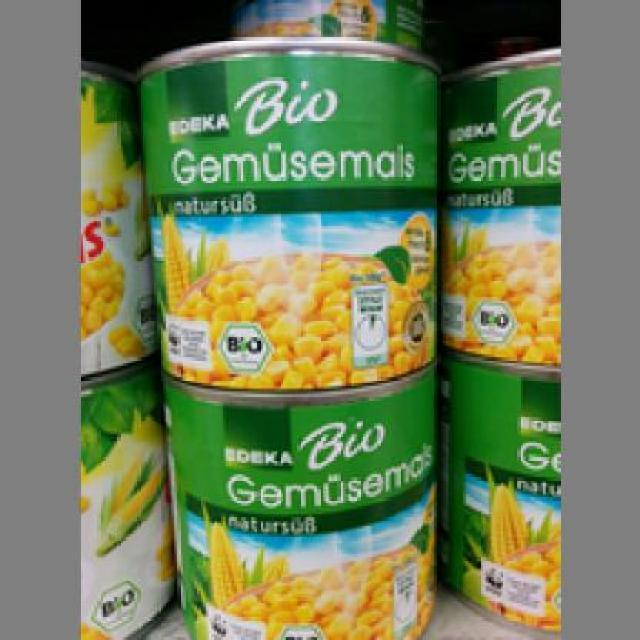Corn: (131, 34, 440, 386), (157, 374, 440, 637), (437, 46, 557, 366), (434, 360, 560, 637)
